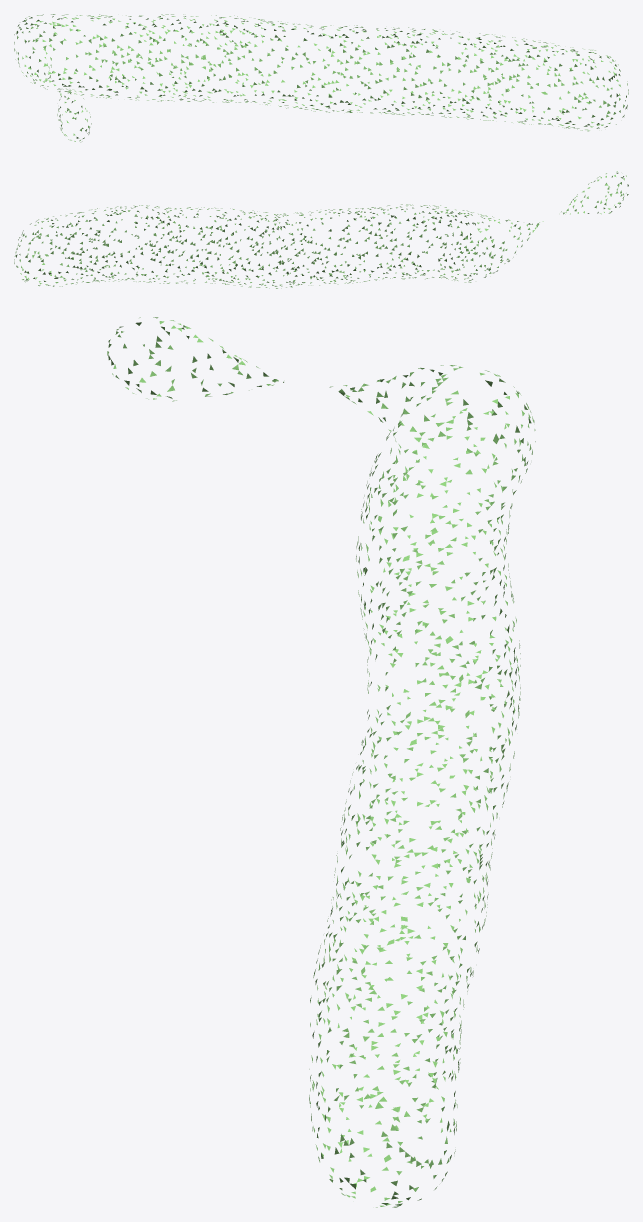
Rendered from morph_015.glb.
3 renders of one model, top to bottom at view 1: azimuth 30°, elevation 25°; view 2: azimuth 150°, elevation 25°; view 3: azimuth 270°, elevation 25°, orthographic. The views are drawn at different scales.
Size of the model in its own units: 124 by 42.2 by 42.46.
